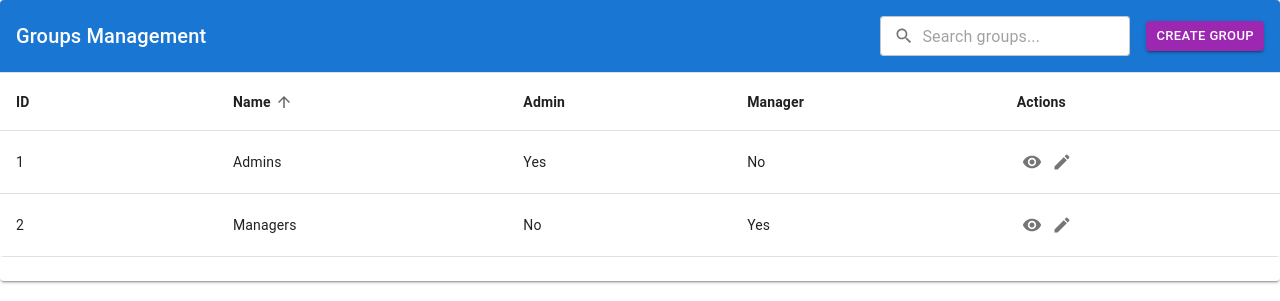
Test case: GroupsView › should filter groups based on search input
The width and height of the screenshot is (1280, 301).
Expected: the text "Admins" is shown, [217, 131, 507, 194]
Type "Managers" into the field with placeholder "Search groups..." at (1026, 36), box [922, 16, 1130, 56]
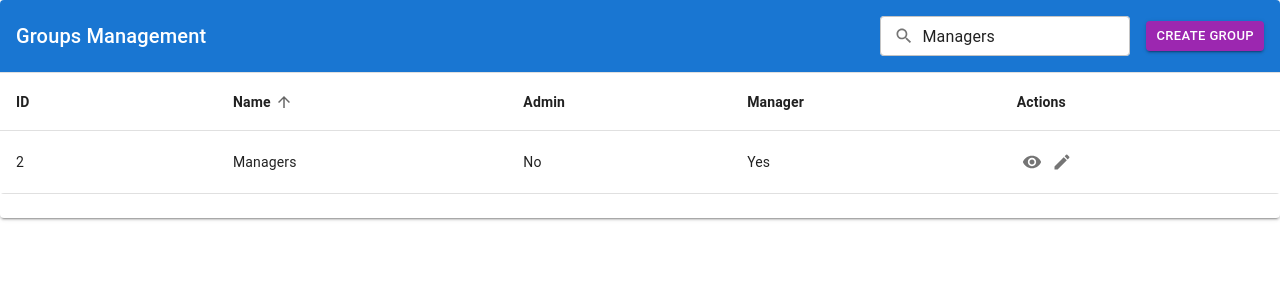
Expected: the text "Managers" is shown, [217, 131, 507, 194]
Expected: the text "Admins" is gone
